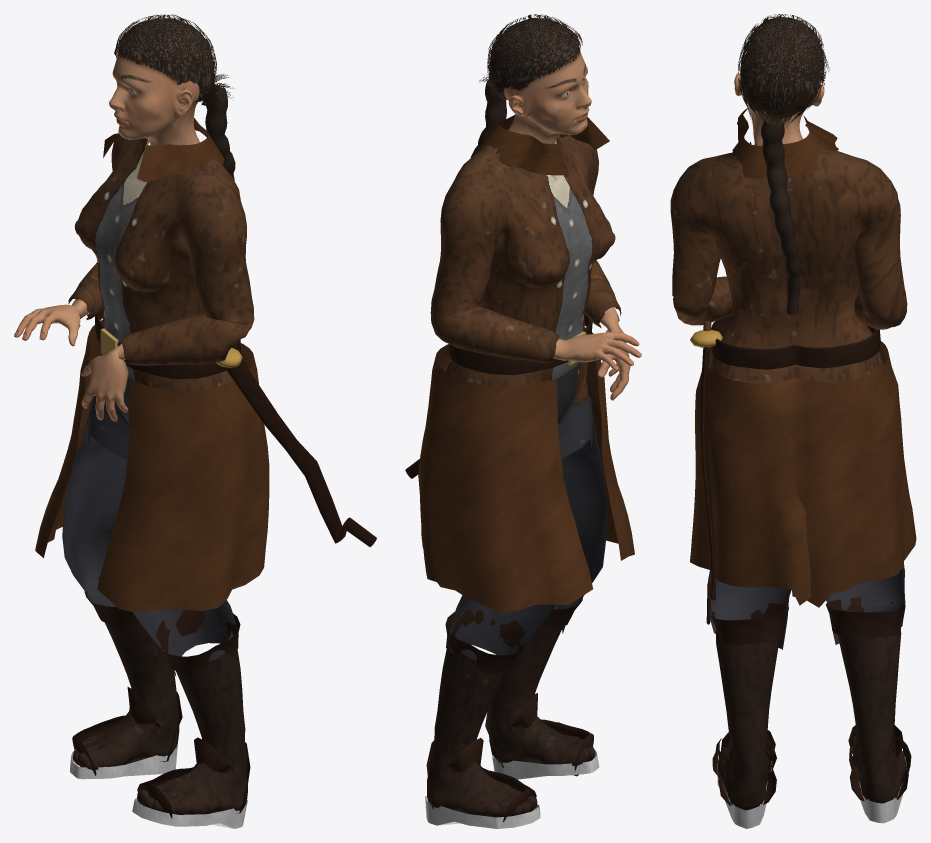
Rendered from SM_Art_Person_mira.gltf.
3 renders of one model, left to right at view 1: azimuth 30°, elevation 25°; view 2: azimuth 150°, elevation 25°; view 3: azimuth 270°, elevation 25°, orthographic. The views are drawn at different scales.
Parts seen in each view (by area): view 1: SM_Art_Person_mira; view 2: SM_Art_Person_mira; view 3: SM_Art_Person_mira.
Part boxes in pixels (bbox=[...]): SM_Art_Person_mira: bbox=[14, 14, 376, 828]; SM_Art_Person_mira: bbox=[405, 14, 641, 828]; SM_Art_Person_mira: bbox=[670, 14, 916, 828].
Bounding box in the file's own units: 0.6995 × 1.8 × 0.5156.
Materials: 21 (18 with a texture image).
